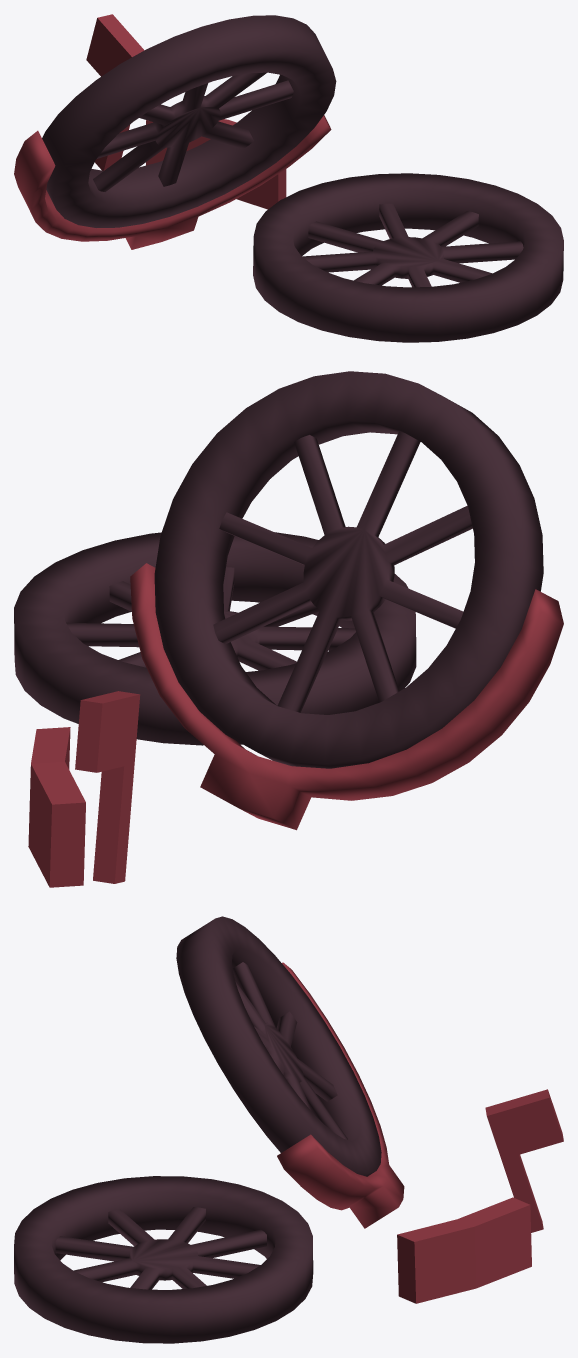
The model's file is BicicletaQuebrada.fbx.
3 views of the same model, one above another, from view 1: azimuth 30°, elevation 25°; view 2: azimuth 150°, elevation 25°; view 3: azimuth 270°, elevation 25° (orthographic). The views are drawn at different scales.
Parts seen in each view (by area): view 1: BicicletaQuebrada; view 2: BicicletaQuebrada; view 3: BicicletaQuebrada.
Boxes of the visible parts, bbox=[...] form: BicicletaQuebrada: bbox=[14, 14, 563, 342]; BicicletaQuebrada: bbox=[14, 371, 563, 887]; BicicletaQuebrada: bbox=[14, 916, 563, 1343].
Bounding box in the file's own units: 195 × 124 × 213.
